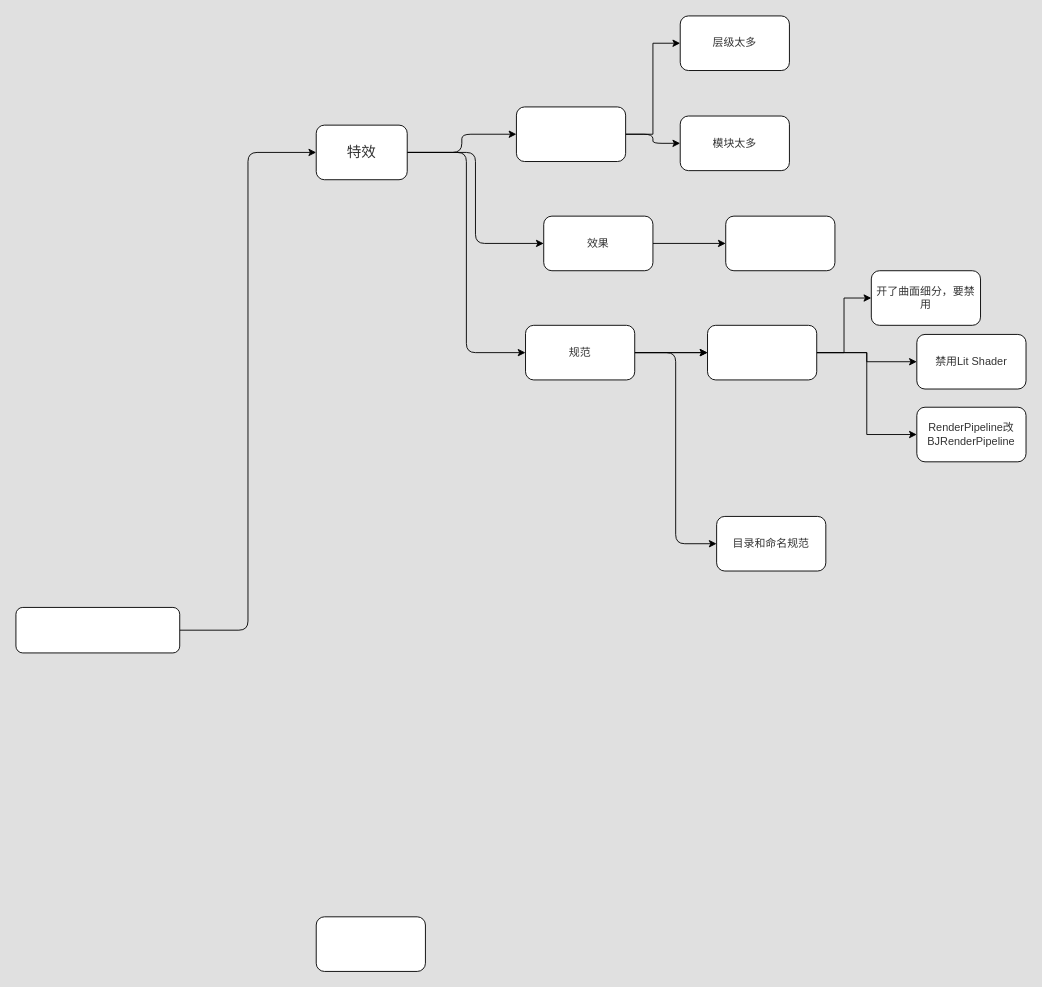
Image size: 1042x987. Some labels were removed from this diagram. The centre of each missing label's shape, as x and y in pixels:
"L2规范和约束" goes at pixel 97 630.
"Radial Blur" goes at pixel 780 243.
"制作规范" goes at pixel 762 352.
"性能" goes at pixel 571 134.
